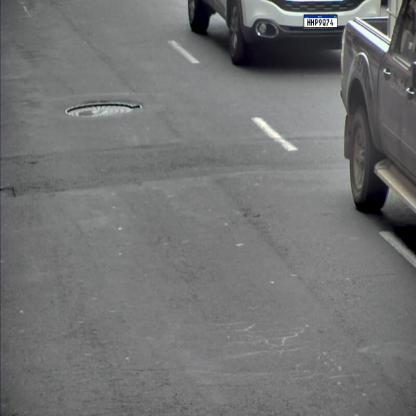PlacaM: (304, 14, 338, 28)
